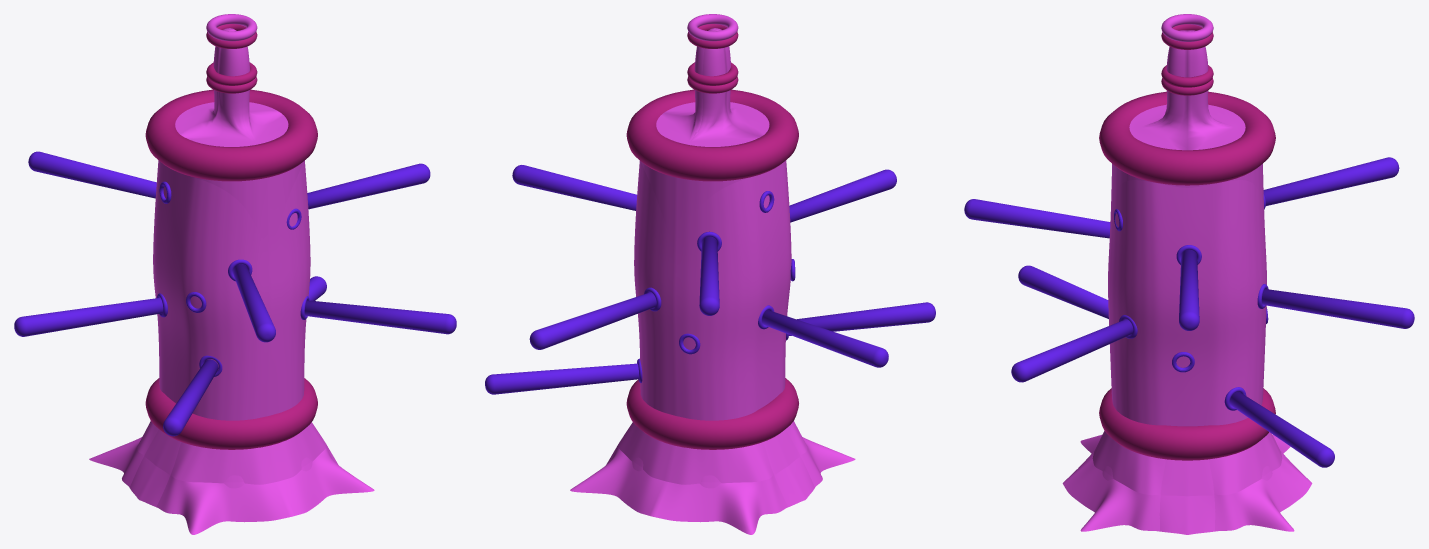
The model's file is totem-bug.glb.
3 views of the same model, side by side, from view 1: azimuth 30°, elevation 25°; view 2: azimuth 150°, elevation 25°; view 3: azimuth 270°, elevation 25° (orthographic). The views are drawn at different scales.
Visible parts, largest first — view 1: critter-totem-body, critter-totem-arms; view 2: critter-totem-body, critter-totem-arms; view 3: critter-totem-body, critter-totem-arms.
Part boxes in pixels (left/top/right/bottom): critter-totem-body: left=89, top=14, right=374, bottom=534; critter-totem-arms: left=14, top=151, right=456, bottom=436; critter-totem-body: left=570, top=14, right=855, bottom=534; critter-totem-arms: left=485, top=165, right=935, bottom=394; critter-totem-body: left=1062, top=14, right=1312, bottom=534; critter-totem-arms: left=964, top=157, right=1414, bottom=467.
Size of the model in its own units: 2.76 by 3.05 by 2.67.
